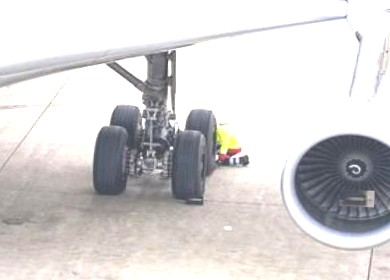chock: (339, 189, 375, 207), (183, 193, 208, 206)
wheel: (172, 126, 210, 204), (92, 122, 132, 196), (183, 107, 219, 177), (111, 102, 144, 149)
